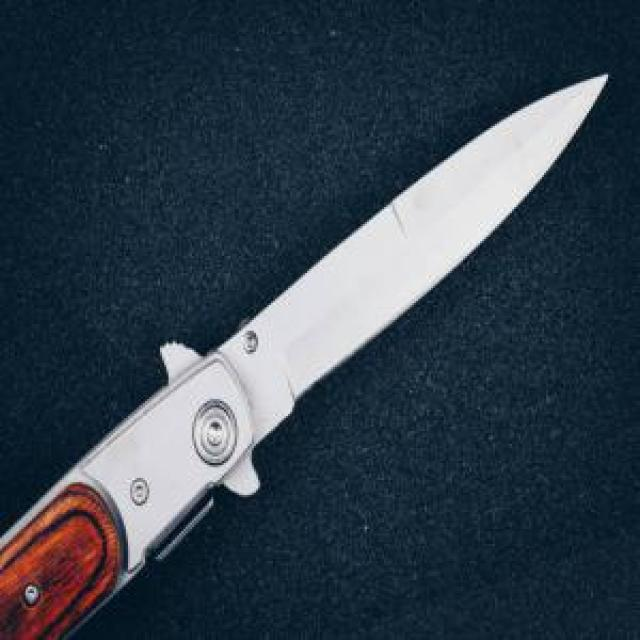knife: (0, 70, 614, 637)
